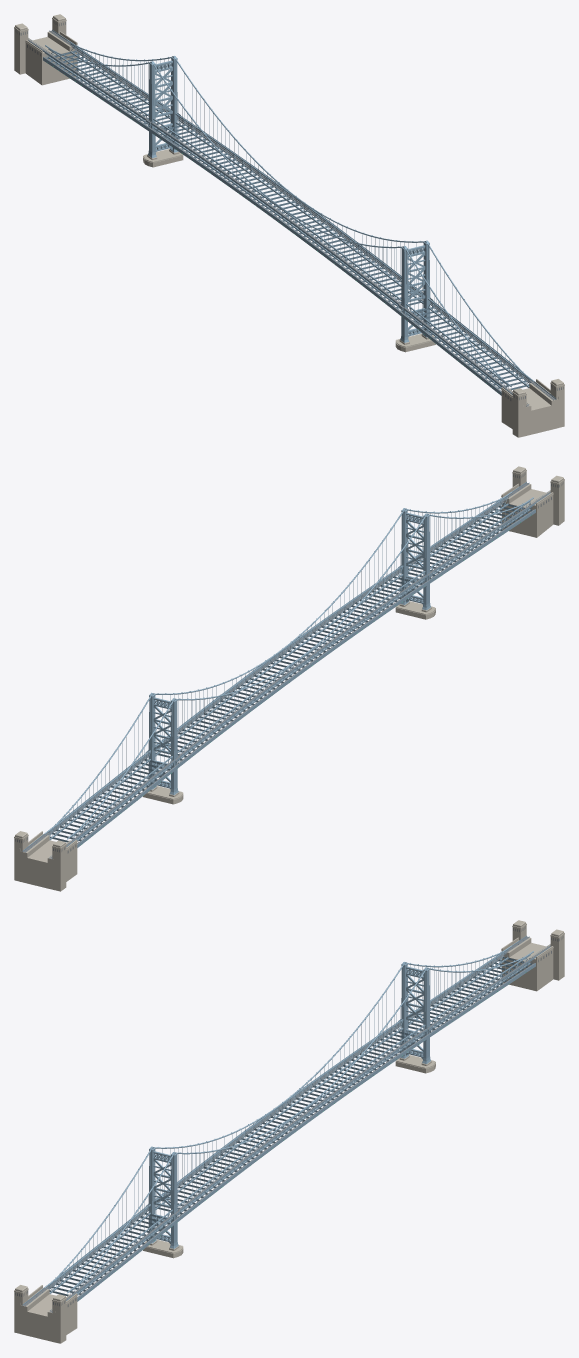
File: phl-ben-franklin-bridge.detail.glb
3 views of the same model, one above another, from view 1: azimuth 30°, elevation 25°; view 2: azimuth 150°, elevation 25°; view 3: azimuth 330°, elevation 25° (orthographic).
Visible parts, largest first — view 1: Benjamin Franklin Bridge; view 2: Benjamin Franklin Bridge; view 3: Benjamin Franklin Bridge.
Boxes of the visible parts, x1=… form: Benjamin Franklin Bridge: x1=14, y1=14, x2=564, y2=437; Benjamin Franklin Bridge: x1=14, y1=466, x2=564, y2=891; Benjamin Franklin Bridge: x1=14, y1=920, x2=564, y2=1343.
Bounding box in the file's own units: 57.2 × 118 × 1064.
